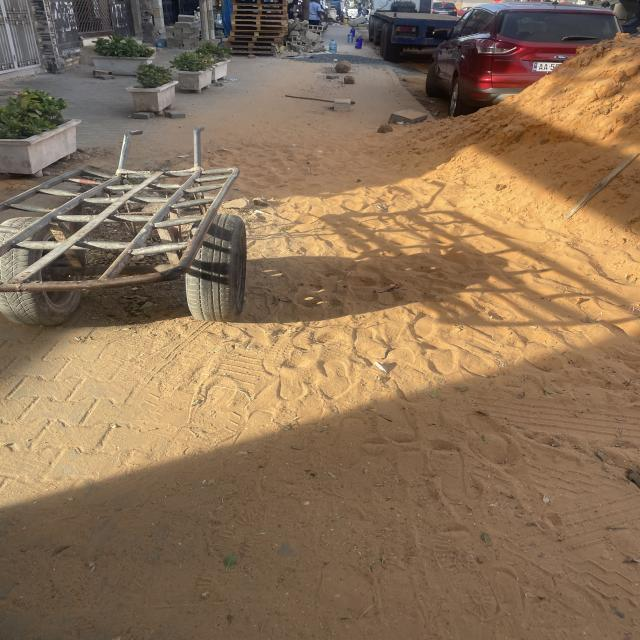camion: (369, 1, 459, 62)
particulier: (428, 5, 621, 116), (433, 2, 458, 17)
pousse pousse: (1, 132, 246, 325)
